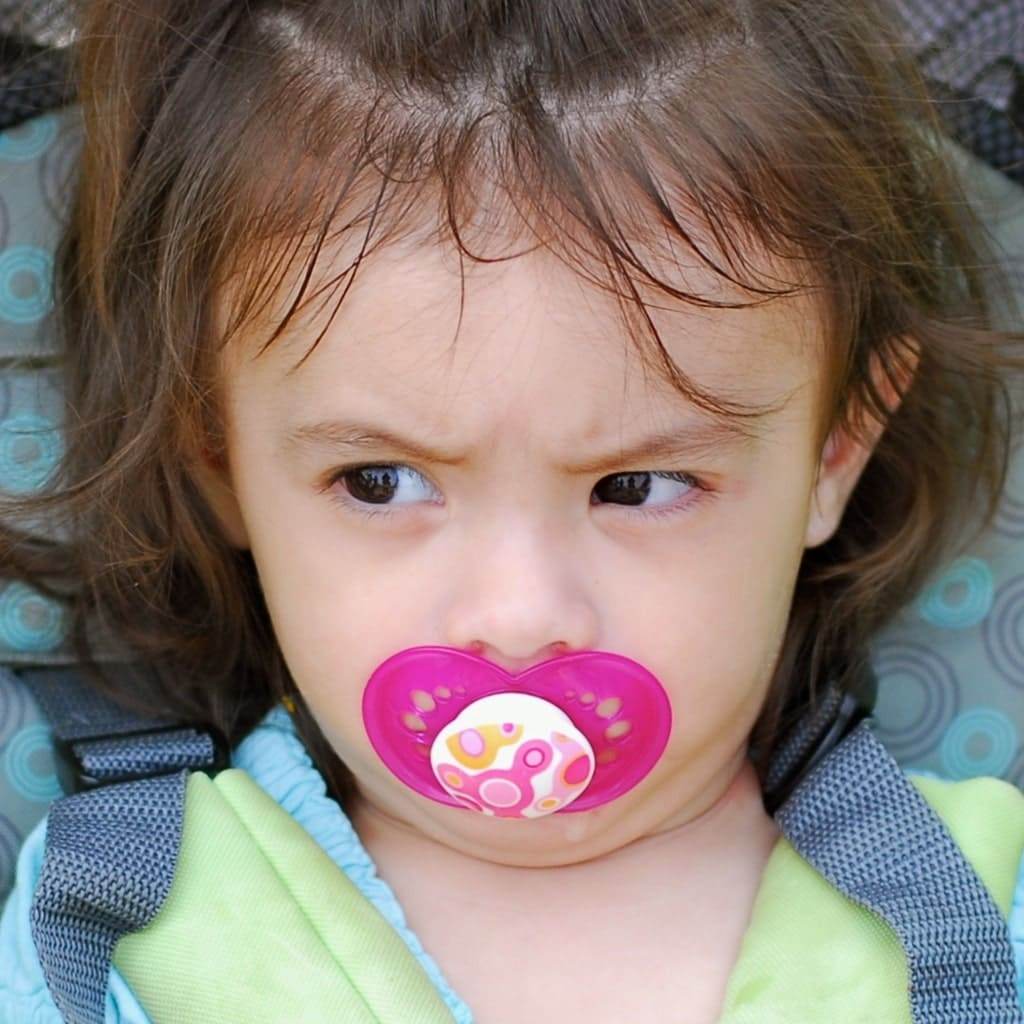without_mask: (252, 191, 813, 846)
